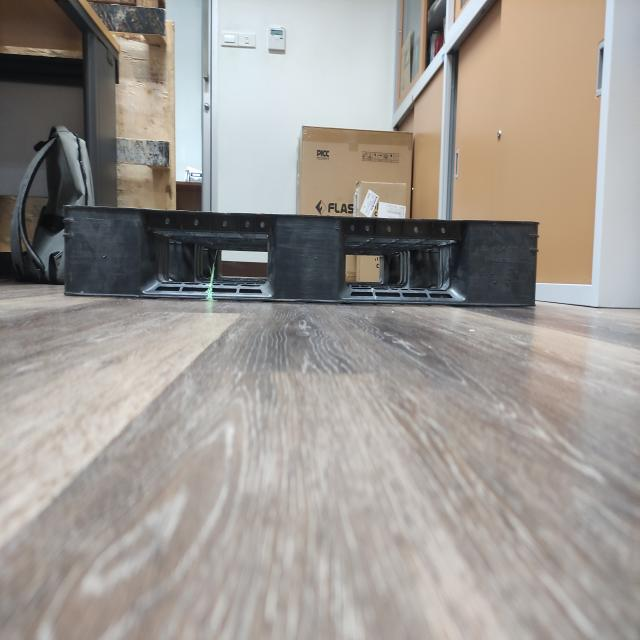block: (59, 204, 138, 301), (463, 217, 541, 310), (275, 215, 349, 304)
front: (56, 203, 539, 316)
